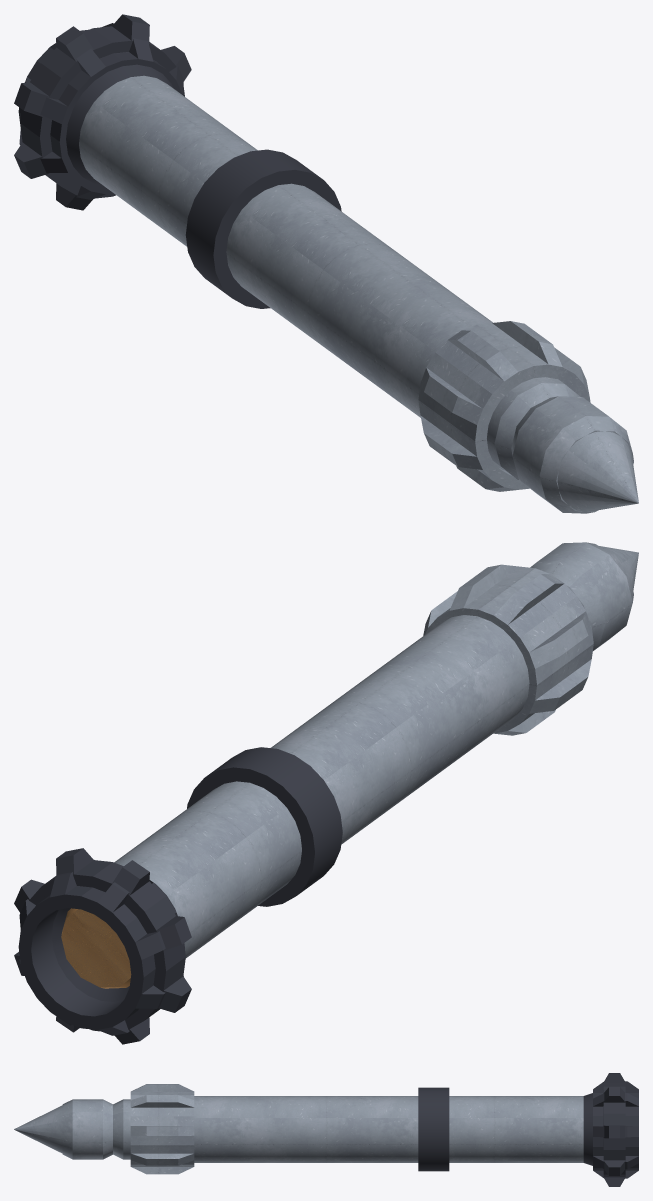
The model's file is rocket.fbx.
The picture shows the model from 3 angles, top to bottom: view 1: azimuth 30°, elevation 25°; view 2: azimuth 150°, elevation 25°; view 3: azimuth 270°, elevation 25°; orthographic projection. The views are drawn at different scales.
Visible parts, largest first — view 1: mergedBlocks; view 2: mergedBlocks; view 3: mergedBlocks.
Boxes of the visible parts, <box> form: mergedBlocks: <box>14,14,638,513</box>; mergedBlocks: <box>14,542,638,1044</box>; mergedBlocks: <box>14,1073,638,1186</box>.
Size of the model in its own units: 6.47 by 6.52 by 37.19.
Materials: 4 (3 with a texture image).
